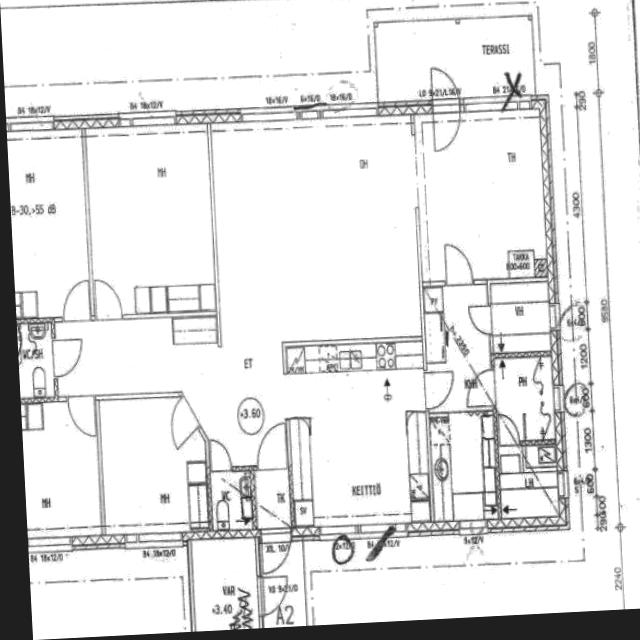room: (86, 123, 216, 315), (415, 109, 547, 282), (7, 129, 91, 319), (99, 396, 210, 536), (21, 400, 101, 538), (423, 284, 493, 409), (192, 537, 259, 632), (495, 356, 555, 441), (490, 278, 551, 353), (499, 444, 559, 518), (17, 323, 55, 398), (211, 471, 252, 531), (255, 469, 291, 528)
